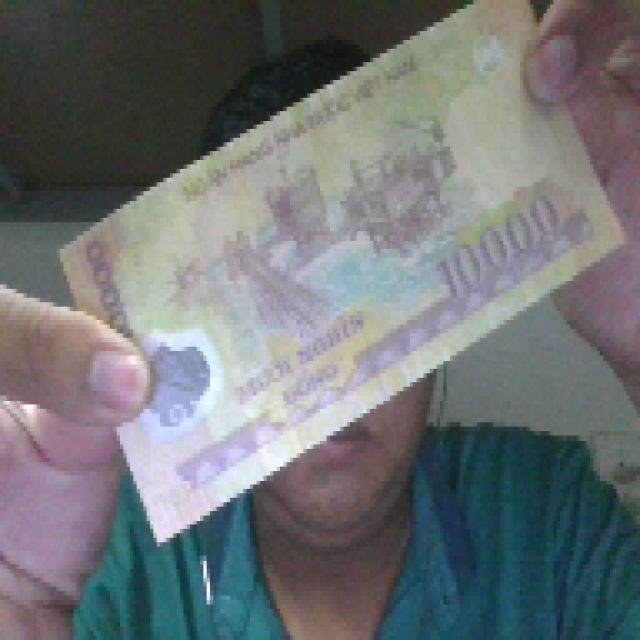10 000 VND: (55, 0, 631, 547)
